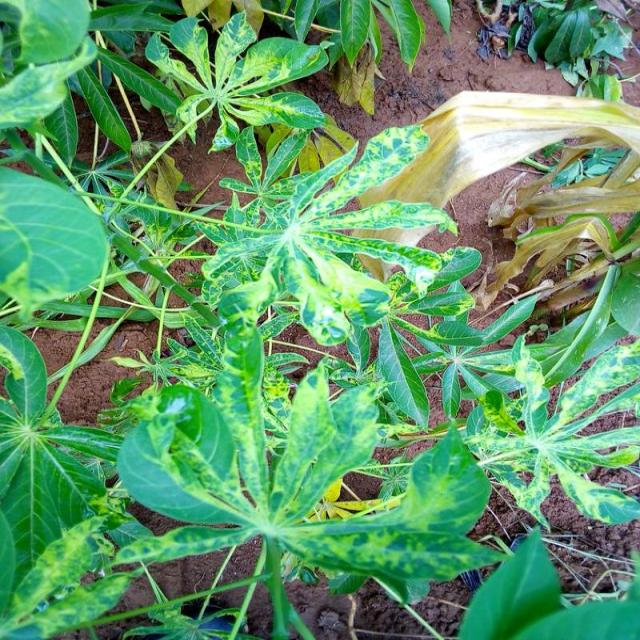cassava leaf: (110, 319, 507, 636), (2, 164, 111, 319)
